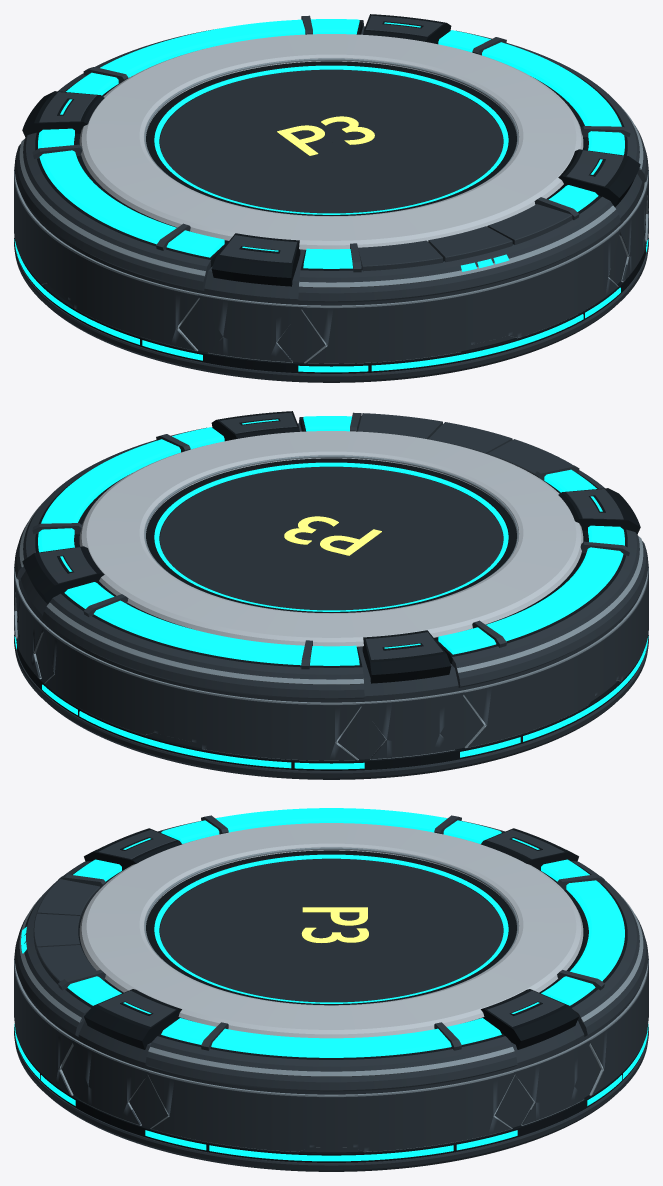
Rendered from Slider.fbx.
The picture shows the model from 3 angles, top to bottom: view 1: azimuth 30°, elevation 25°; view 2: azimuth 150°, elevation 25°; view 3: azimuth 270°, elevation 25°; orthographic projection.
Parts seen in each view (by area): view 1: SM_Puck_Slider_P3_HighDetail; view 2: SM_Puck_Slider_P3_HighDetail; view 3: SM_Puck_Slider_P3_HighDetail.
Boxes of the visible parts, box(x1,y1,x2,y2) form: SM_Puck_Slider_P3_HighDetail: box(14, 14, 648, 382); SM_Puck_Slider_P3_HighDetail: box(14, 411, 648, 779); SM_Puck_Slider_P3_HighDetail: box(14, 808, 648, 1171).
Size of the model in its own units: 89.9 by 89.9 by 18.3.
